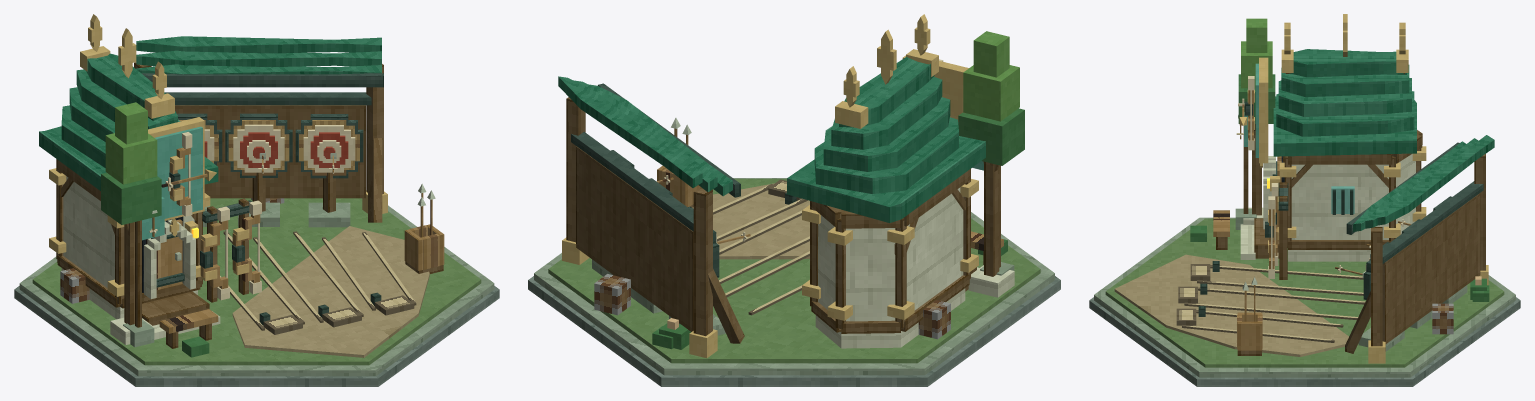
The model's file is elf_ranger_camp_hex_v1.glb.
3 views of the same model, side by side, from view 1: azimuth 30°, elevation 25°; view 2: azimuth 150°, elevation 25°; view 3: azimuth 270°, elevation 25° (orthographic). The views are drawn at different scales.
Parts seen in each view (by area): view 1: Elf_Ranger_Camp_Hex_V1_Foundation, Elf_Ranger_Camp_Hex_V1_Targets, Elf_Ranger_Camp_Hex_V1_Roofs, Elf_Ranger_Camp_Hex_V1_Courtyard, Elf_Ranger_Camp_Hex_V1_Details, Elf_Ranger_Camp_Hex_V1_Lodge, Elf_Ranger_Camp_Hex_V1_Equipment, Elf_Ranger_Camp_Hex_V1_Faction; view 2: Elf_Ranger_Camp_Hex_V1_Foundation, Elf_Ranger_Camp_Hex_V1_Roofs, Elf_Ranger_Camp_Hex_V1_Targets, Elf_Ranger_Camp_Hex_V1_Lodge, Elf_Ranger_Camp_Hex_V1_Details, Elf_Ranger_Camp_Hex_V1_Courtyard, Elf_Ranger_Camp_Hex_V1_Equipment; view 3: Elf_Ranger_Camp_Hex_V1_Foundation, Elf_Ranger_Camp_Hex_V1_Roofs, Elf_Ranger_Camp_Hex_V1_Courtyard, Elf_Ranger_Camp_Hex_V1_Targets, Elf_Ranger_Camp_Hex_V1_Lodge, Elf_Ranger_Camp_Hex_V1_Details, Elf_Ranger_Camp_Hex_V1_Equipment, Elf_Ranger_Camp_Hex_V1_Faction.
Part boxes in pixels (x1,y1,x2,y2): Elf_Ranger_Camp_Hex_V1_Foundation: [14, 198, 499, 386]; Elf_Ranger_Camp_Hex_V1_Targets: [134, 62, 387, 227]; Elf_Ranger_Camp_Hex_V1_Roofs: [39, 14, 383, 190]; Elf_Ranger_Camp_Hex_V1_Courtyard: [142, 226, 429, 357]; Elf_Ranger_Camp_Hex_V1_Details: [60, 28, 381, 357]; Elf_Ranger_Camp_Hex_V1_Lodge: [49, 117, 210, 319]; Elf_Ranger_Camp_Hex_V1_Equipment: [200, 184, 444, 302]; Elf_Ranger_Camp_Hex_V1_Faction: [142, 126, 202, 240]; Elf_Ranger_Camp_Hex_V1_Foundation: [528, 178, 1060, 386]; Elf_Ranger_Camp_Hex_V1_Roofs: [558, 14, 985, 222]; Elf_Ranger_Camp_Hex_V1_Targets: [562, 97, 750, 358]; Elf_Ranger_Camp_Hex_V1_Lodge: [802, 55, 978, 348]; Elf_Ranger_Camp_Hex_V1_Details: [594, 29, 1024, 349]; Elf_Ranger_Camp_Hex_V1_Courtyard: [692, 179, 979, 315]; Elf_Ranger_Camp_Hex_V1_Equipment: [657, 118, 700, 207]; Elf_Ranger_Camp_Hex_V1_Foundation: [1089, 217, 1520, 386]; Elf_Ranger_Camp_Hex_V1_Roofs: [1273, 22, 1494, 234]; Elf_Ranger_Camp_Hex_V1_Courtyard: [1114, 218, 1365, 356]; Elf_Ranger_Camp_Hex_V1_Targets: [1335, 154, 1488, 363]; Elf_Ranger_Camp_Hex_V1_Lodge: [1259, 57, 1426, 261]; Elf_Ranger_Camp_Hex_V1_Details: [1190, 14, 1489, 334]; Elf_Ranger_Camp_Hex_V1_Equipment: [1237, 182, 1288, 355]; Elf_Ranger_Camp_Hex_V1_Faction: [1244, 63, 1258, 157].
Bounding box in the file's own units: 1.59 × 1.17 × 1.84.
1 material, 1 textured.
